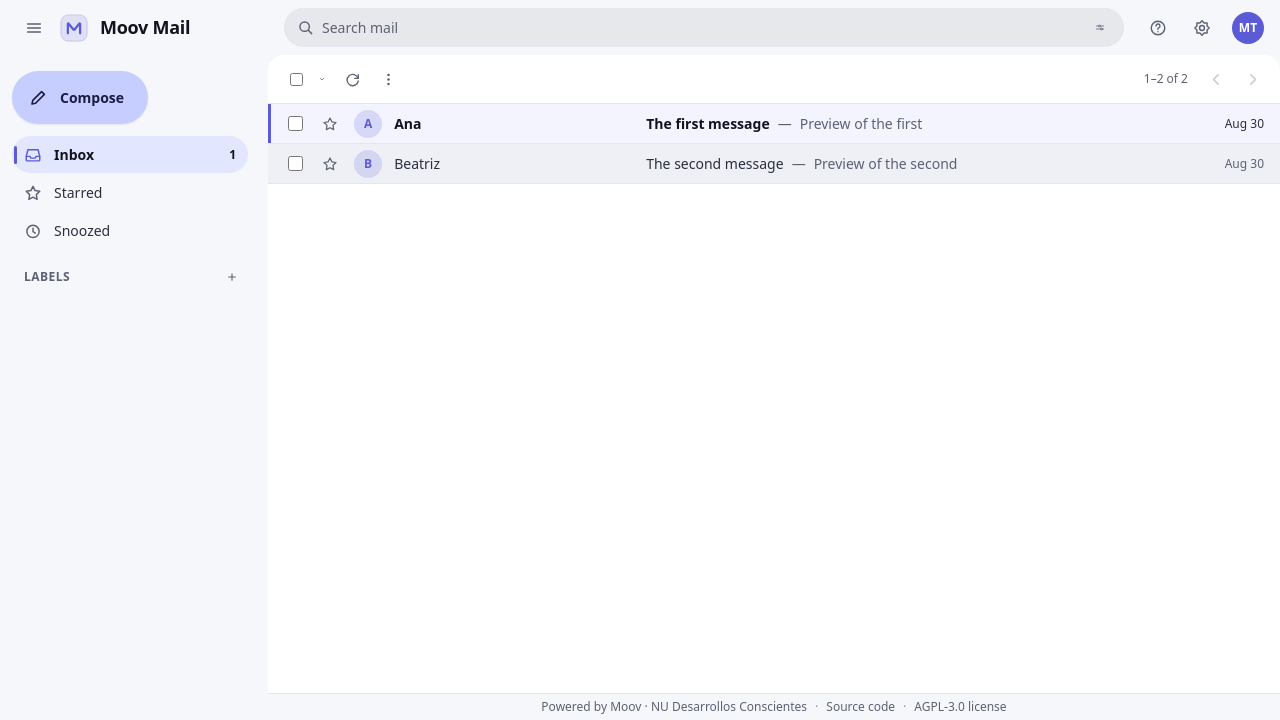
it: MailScreen — the shell's canary › opens the view's overflow menu with an empty selection (B-05)
Expected: the text "The first message" is shown, x1=646 y1=113 x2=770 y2=134
Click the button named "More actions" at (388, 79), box x1=372 y1=63 x2=404 y2=95
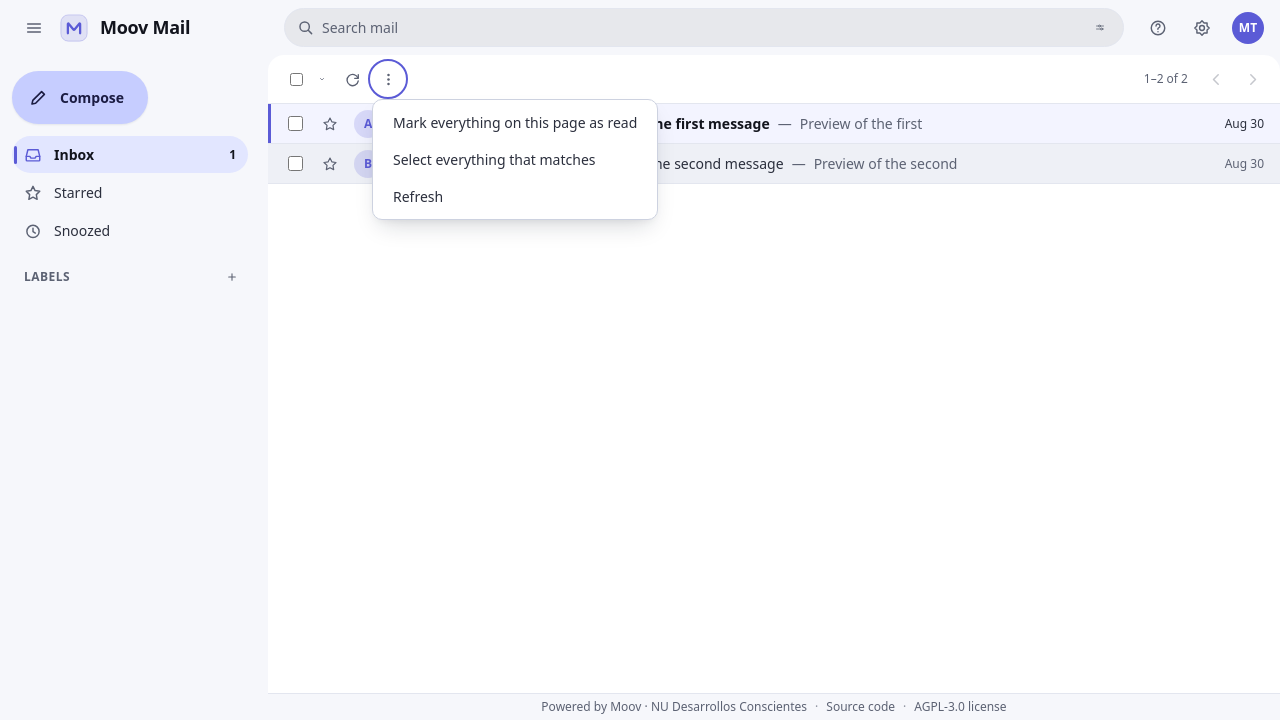
Expected: the menu item "Mark everything on this page as read" is shown, x1=377 y1=104 x2=653 y2=141
Expected: the menu item "Select everything that matches" is shown
Expected: the menu item "Refresh" is shown, x1=377 y1=178 x2=653 y2=215
Click the menu item "Select everything that matches" at (515, 160), box x1=377 y1=141 x2=653 y2=178
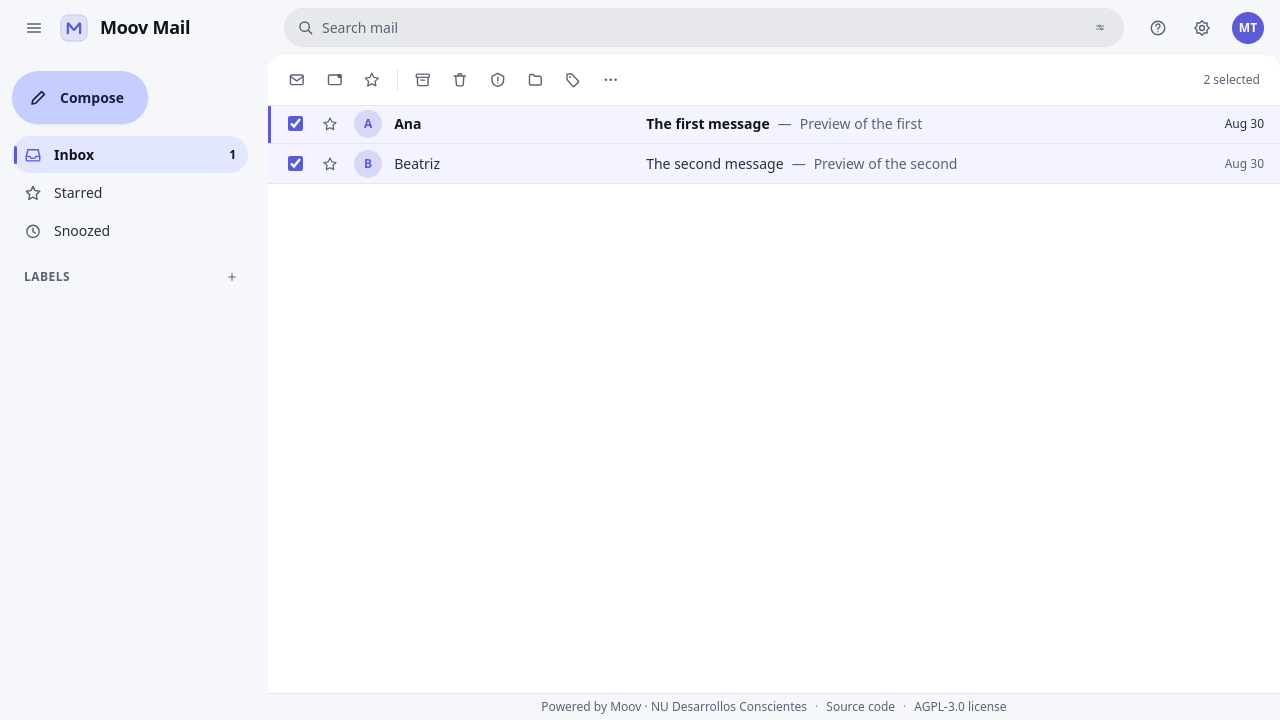
Expected: the element showing "2 selected" is shown, x1=268 y1=55 x2=1279 y2=106
